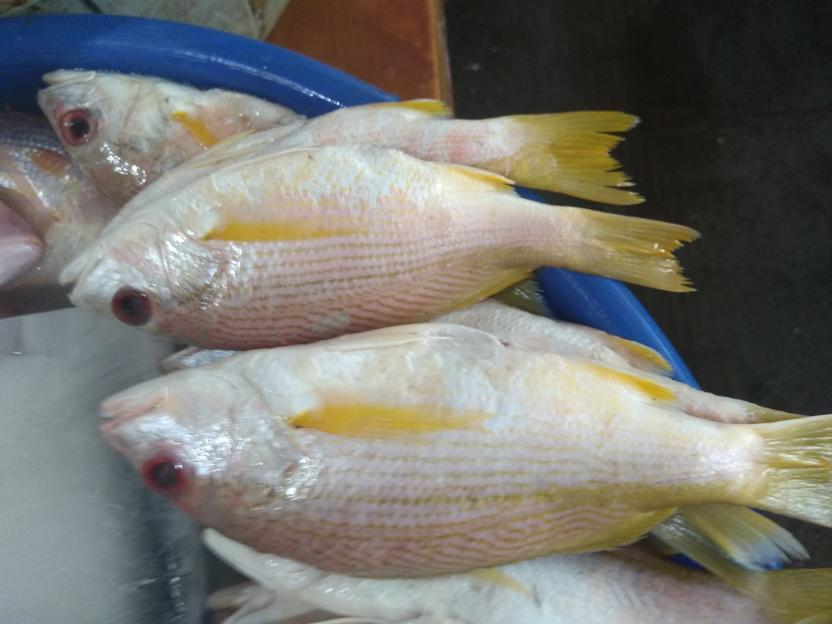Fish head: (96, 357, 283, 524), (58, 188, 213, 347), (36, 67, 177, 202)
Fish tail: (653, 503, 813, 600), (500, 108, 642, 207), (572, 207, 702, 294), (745, 414, 832, 528)
